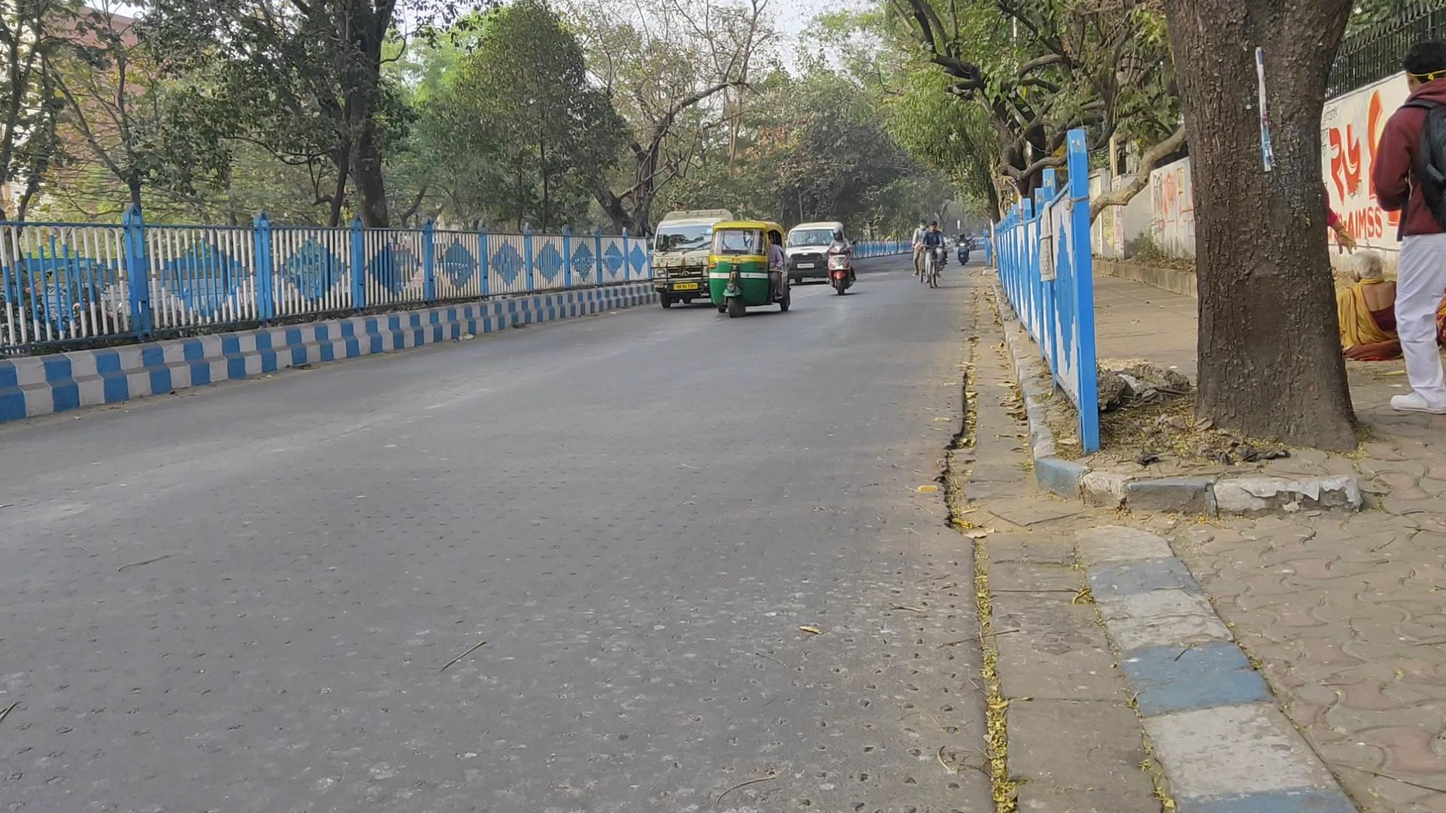Auto: (708, 218, 791, 320)
bike: (826, 227, 856, 297), (920, 221, 945, 289), (911, 220, 932, 283), (954, 233, 972, 266)
car: (786, 221, 846, 287)
van: (653, 209, 737, 307)
